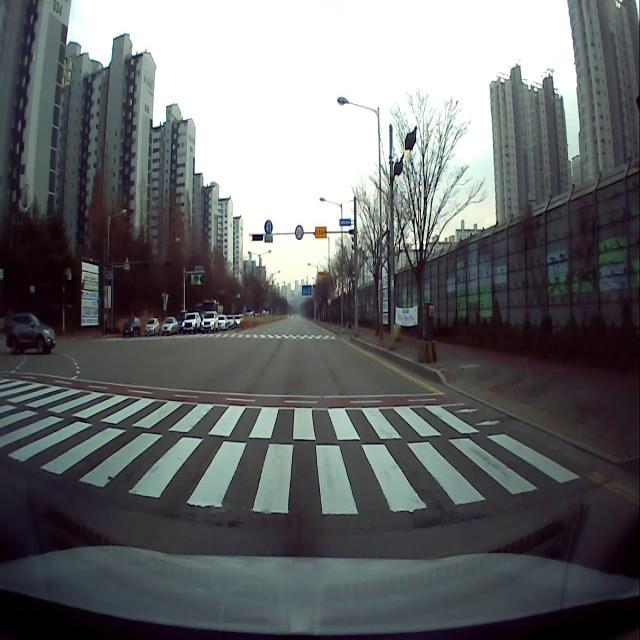Red Light: (248, 234, 252, 242)
